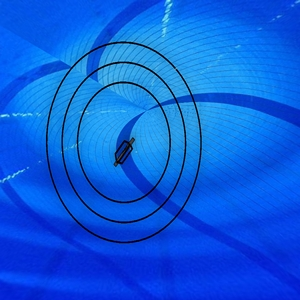circle: (43, 40, 207, 249)
submarine: (114, 135, 140, 168)
